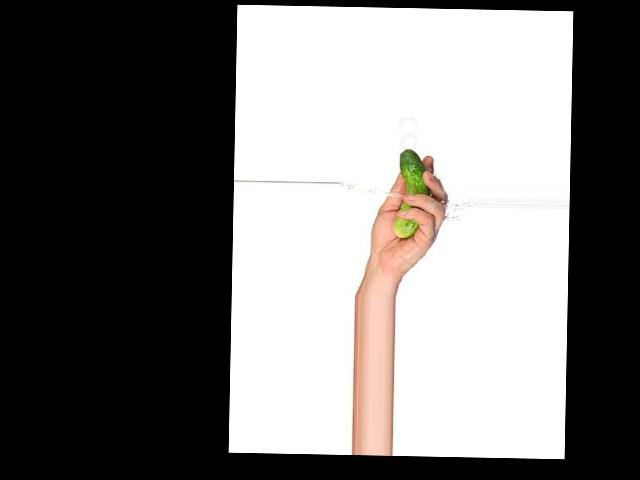cucumber: (394, 148, 428, 238)
